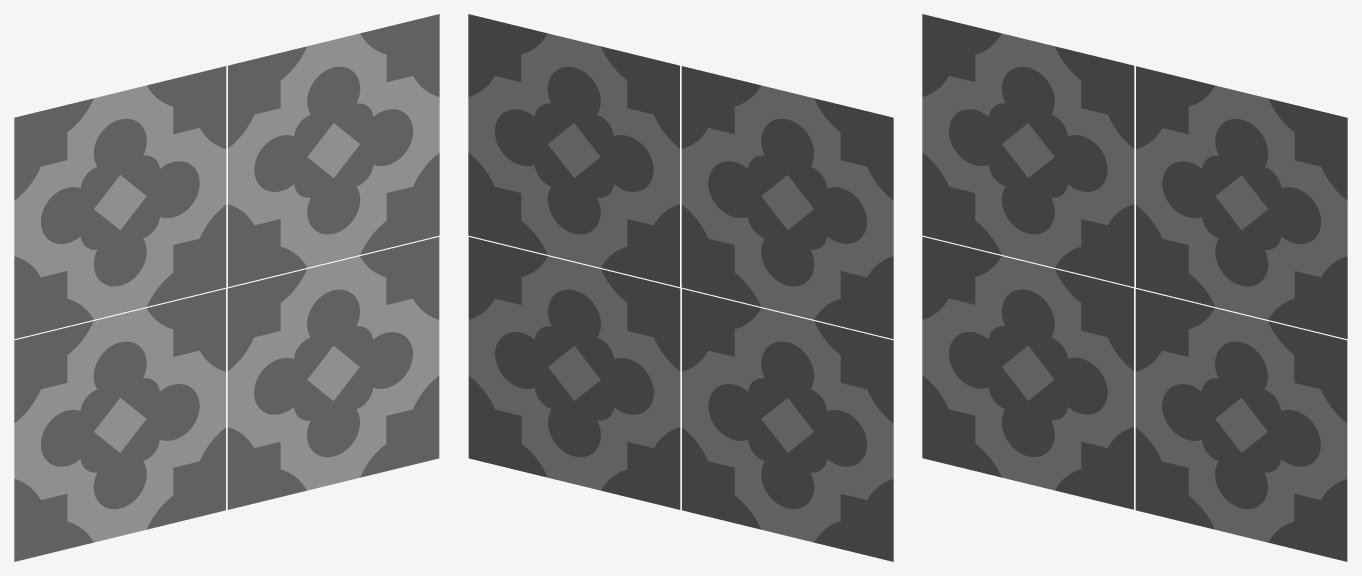
File: petunias.gltf
3 renders of one model, left to right at view 1: azimuth 30°, elevation 25°; view 2: azimuth 150°, elevation 25°; view 3: azimuth 330°, elevation 25°, orthographic.
Parts seen in each view (by area): view 1: petunias; view 2: petunias; view 3: petunias.
Part boxes in pixels (x1,y1,x2,y2): petunias: (14,14,439,561); petunias: (468,14,893,561); petunias: (922,14,1347,561).
Size of the model in its own units: 1224 by 1223 by 0.
Materials: 28 (28 with a texture image).
